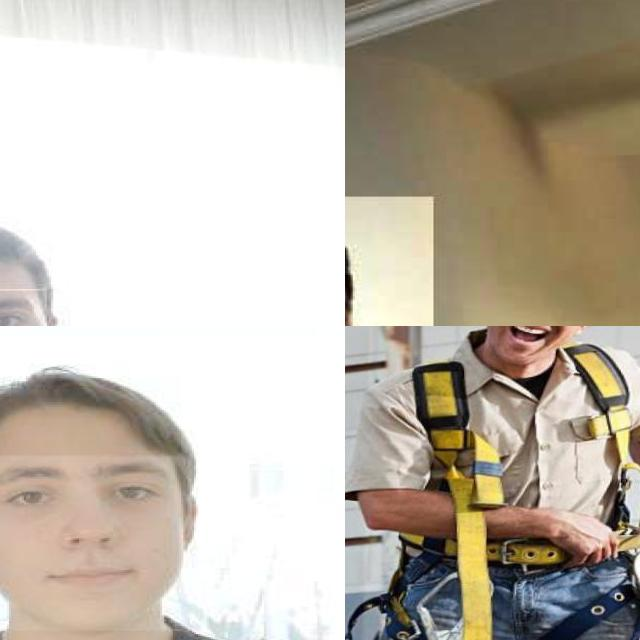Harness: (400, 361, 568, 634), (565, 344, 640, 530)
No_Ear-Protection: (169, 477, 219, 558)
No_Glasses: (0, 450, 191, 528)
face_nomask: (0, 456, 185, 630)
head_nohelmet: (0, 379, 181, 454), (0, 218, 70, 290)
person: (0, 339, 345, 640)
